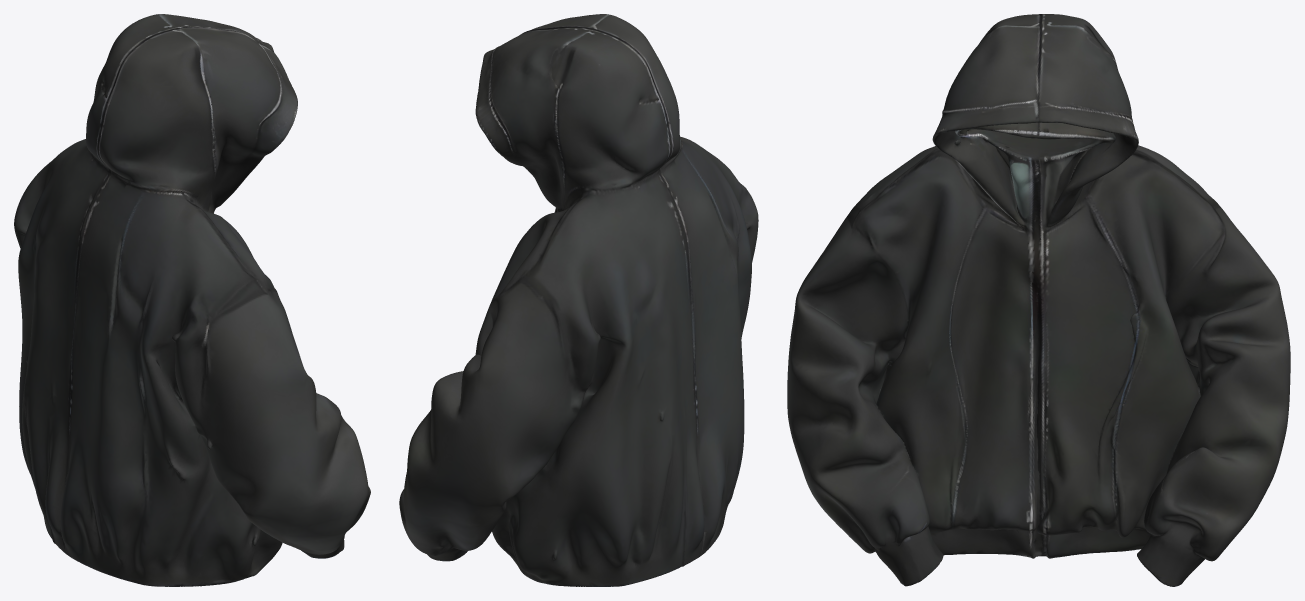
File: tripo_pbr_model_62706969-fbdb-_1c1d29ba_opt.glb
3 views of the same model, side by side, from view 1: azimuth 30°, elevation 25°; view 2: azimuth 150°, elevation 25°; view 3: azimuth 270°, elevation 25° (orthographic). The views are drawn at different scales.
Parts seen in each view (by area): view 1: tripo_node_62706969-fbdb-45c0-a1a5-9f35d226bbcc; view 2: tripo_node_62706969-fbdb-45c0-a1a5-9f35d226bbcc; view 3: tripo_node_62706969-fbdb-45c0-a1a5-9f35d226bbcc.
Part boxes in pixels (x1,y1,x2,y2): tripo_node_62706969-fbdb-45c0-a1a5-9f35d226bbcc: (14,14,370,586); tripo_node_62706969-fbdb-45c0-a1a5-9f35d226bbcc: (399,14,758,586); tripo_node_62706969-fbdb-45c0-a1a5-9f35d226bbcc: (787,14,1290,586).
Bounding box in the file's own units: 0.4839 × 1 × 0.8873.
Materials: 1 (1 with a texture image).
